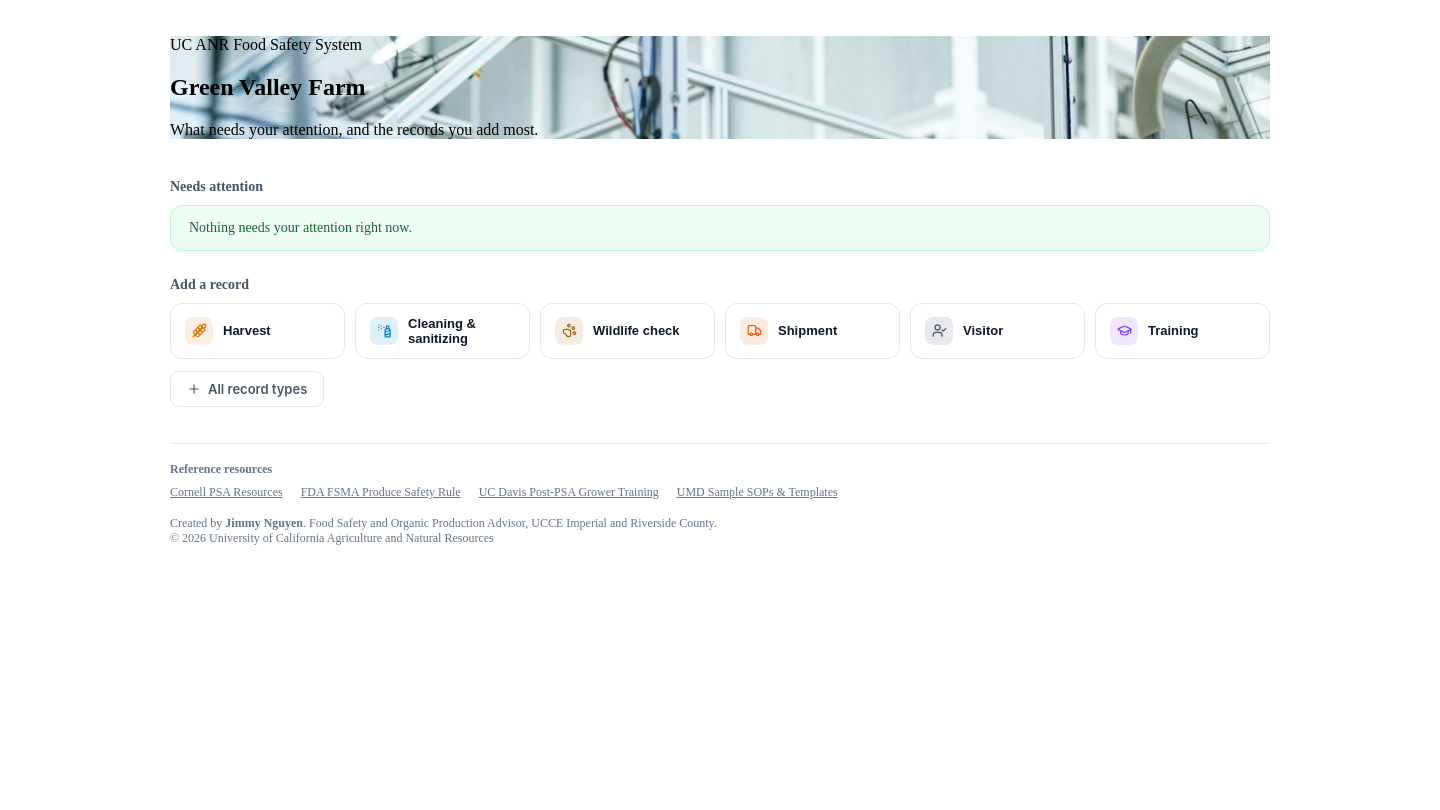
Scenario: Home: adding records › offers the records added most, and opens the form for one
The width and height of the screenshot is (1440, 810).
Expected: the button "Cleaning & sanitizing" is shown, [355,303,530,359]
Expected: the button "Wildlife check" is shown, [540,303,715,359]
Click the button "Harvest".
click(258, 331)  # box [170,303,345,359]
(page scrolled)
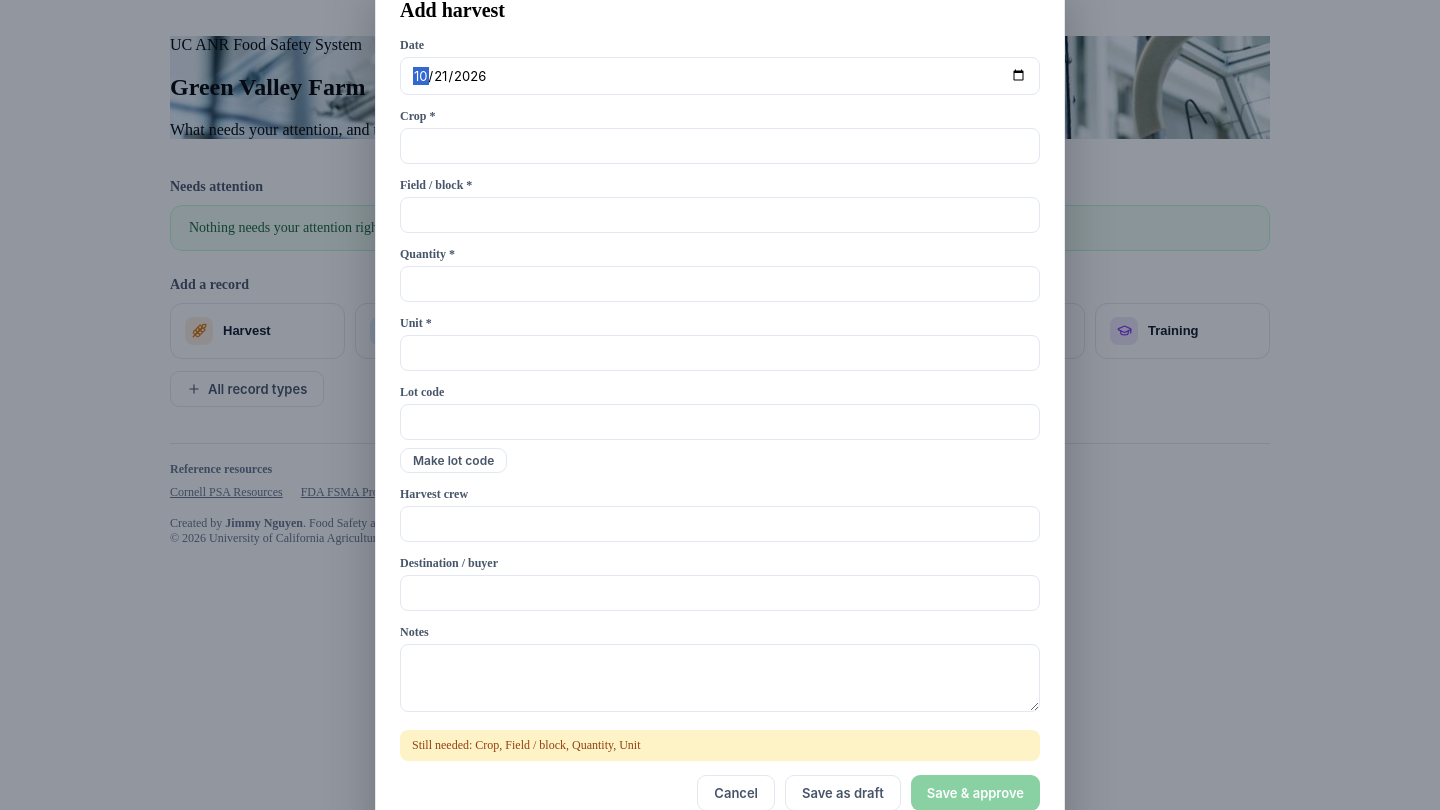
Expected: the dialog "Add harvest" is shown, [375,0,1065,809]
